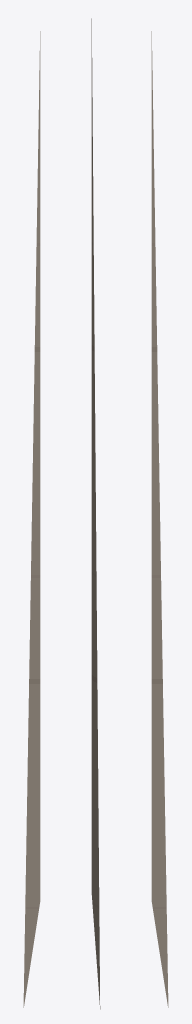
Rendered from kd_stage_135ded_4_144_exterior_piece_8.glb.
3 renders of one model, left to right at view 1: azimuth 90°, elevation 25°; view 2: azimuth 210°, elevation 25°; view 3: azimuth 270°, elevation 25°, orthographic.
Visible parts, largest first — view 1: kd_stage_135ded_4_144_exterior_piece_8; view 2: kd_stage_135ded_4_144_exterior_piece_8; view 3: kd_stage_135ded_4_144_exterior_piece_8.
Part boxes in pixels (left/top/right/bottom): kd_stage_135ded_4_144_exterior_piece_8: left=23, top=31, right=40, bottom=1007; kd_stage_135ded_4_144_exterior_piece_8: left=91, top=18, right=100, bottom=1009; kd_stage_135ded_4_144_exterior_piece_8: left=151, top=31, right=168, bottom=1007.
Size of the model in its own units: 0 by 1.22 by 0.0188.
1 material, 1 textured.
